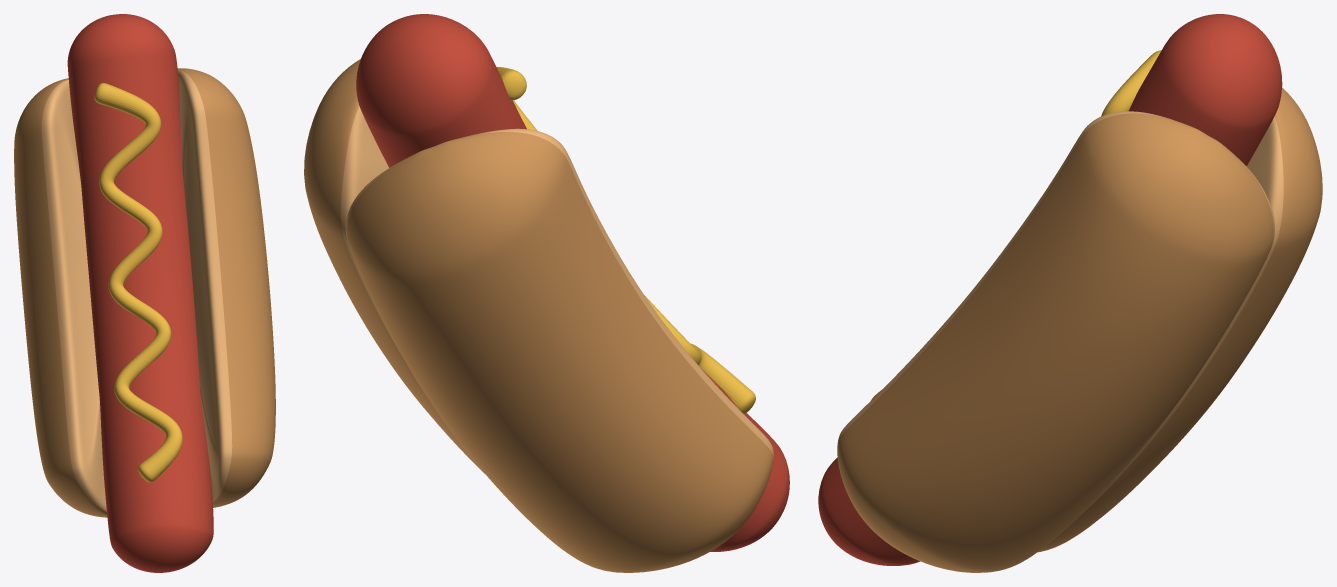
Rendered from Hotdog.fbx.
The picture shows the model from 3 angles, left to right: view 1: azimuth 30°, elevation 25°; view 2: azimuth 150°, elevation 25°; view 3: azimuth 270°, elevation 25°; orthographic projection. The views are drawn at different scales.
Visible parts, largest first — view 1: hotdog_bun.001_Sphere.028, hotdog.001_Sphere.027, hotdog_sauce.001_Vert.019; view 2: hotdog_bun.001_Sphere.028, hotdog.001_Sphere.027, hotdog_sauce.001_Vert.019; view 3: hotdog_bun.001_Sphere.028, hotdog.001_Sphere.027, hotdog_sauce.001_Vert.019.
Boxes of the visible parts, bbox=[...] form: hotdog_bun.001_Sphere.028: bbox=[14, 68, 275, 517]; hotdog.001_Sphere.027: bbox=[67, 14, 213, 572]; hotdog_sauce.001_Vert.019: bbox=[94, 83, 182, 482]; hotdog_bun.001_Sphere.028: bbox=[304, 59, 773, 572]; hotdog.001_Sphere.027: bbox=[356, 14, 789, 551]; hotdog_sauce.001_Vert.019: bbox=[496, 67, 755, 413]; hotdog_bun.001_Sphere.028: bbox=[837, 87, 1322, 572]; hotdog.001_Sphere.027: bbox=[818, 14, 1282, 565]; hotdog_sauce.001_Vert.019: bbox=[871, 50, 1161, 400].
Size of the model in its own units: 104 by 176 by 136.
